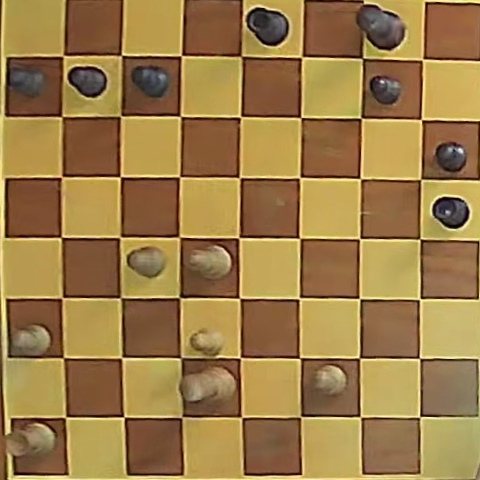black-king: (357, 4, 405, 50)
black-pawn: (131, 65, 170, 98), (68, 66, 107, 98), (9, 66, 46, 98), (370, 75, 402, 105), (435, 142, 467, 172)
black-rook: (246, 7, 289, 47), (432, 197, 468, 229)
white-bishop: (188, 244, 231, 279)
white-king: (179, 364, 237, 405)
white-pawn: (11, 325, 51, 356), (128, 247, 165, 277), (315, 364, 347, 395), (190, 328, 224, 356)
white-rook: (7, 422, 57, 458)
